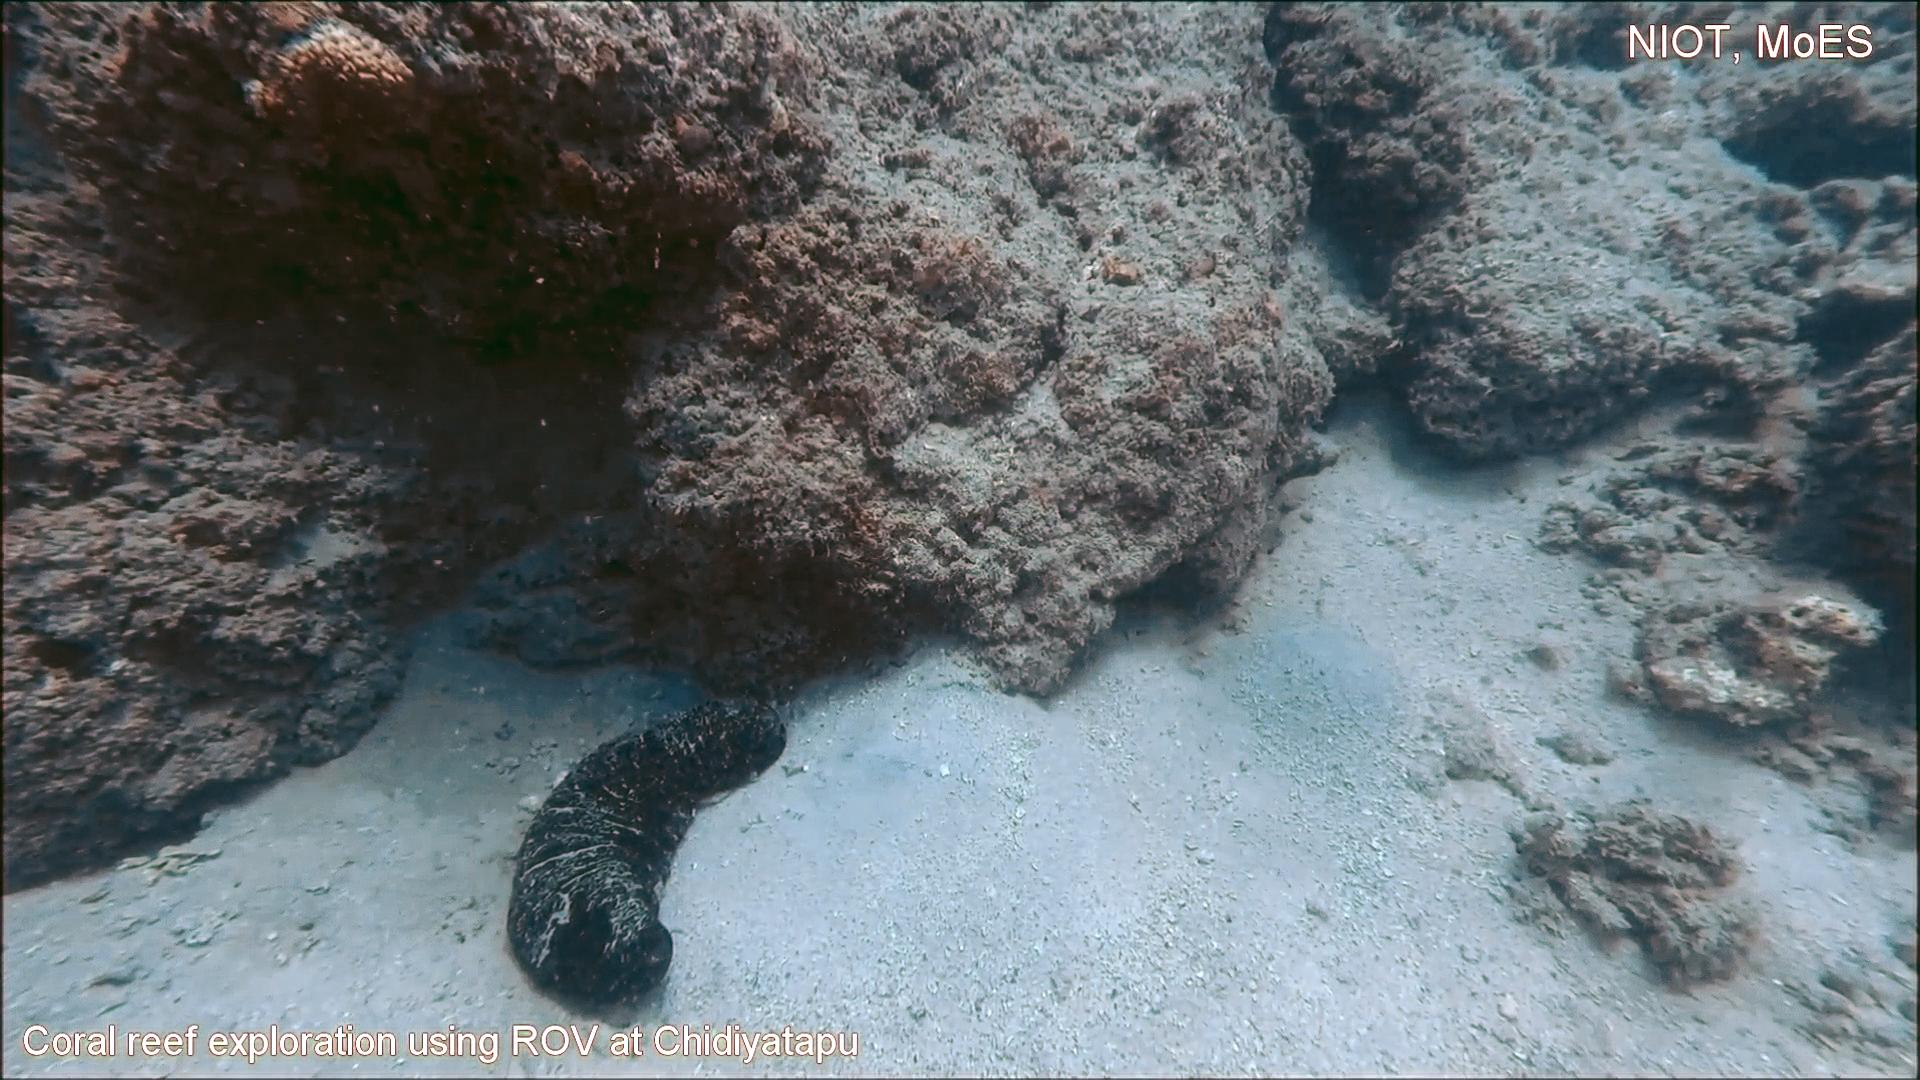Montastraea: (244, 12, 434, 165)
